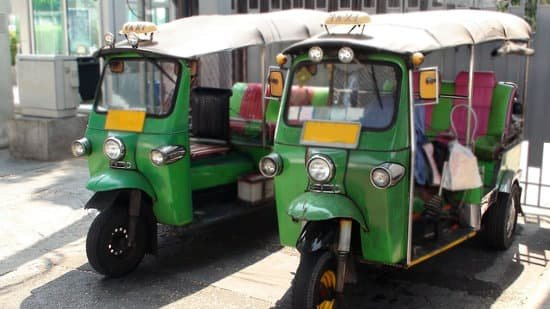threewheel: (258, 8, 533, 309), (71, 8, 327, 279)
